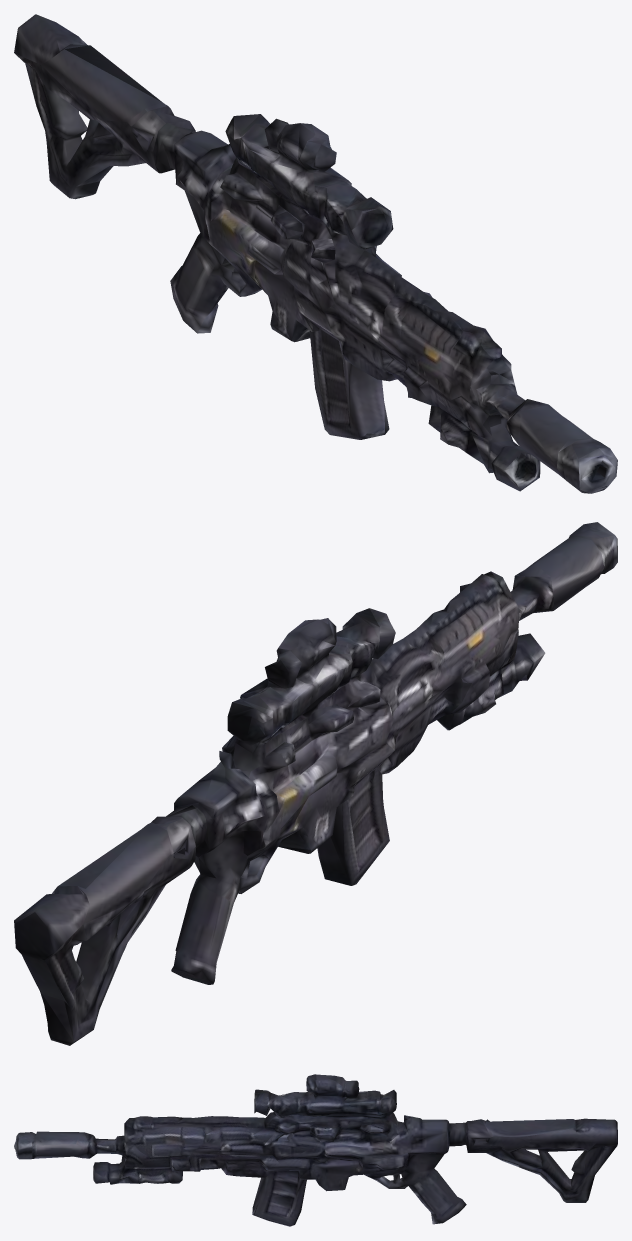
Rendered from future_soldier_rifle.glb.
The picture shows the model from 3 angles, top to bottom: view 1: azimuth 30°, elevation 25°; view 2: azimuth 150°, elevation 25°; view 3: azimuth 270°, elevation 25°; orthographic projection. The views are drawn at different scales.
Parts seen in each view (by area): view 1: rifle; view 2: rifle; view 3: rifle.
Boxes of the visible parts, bbox=[...] form: rifle: bbox=[14, 14, 617, 493]; rifle: bbox=[14, 522, 617, 1045]; rifle: bbox=[14, 1074, 617, 1226].
Size of the model in its own units: 0.0423 by 0.1535 by 0.5649.
Materials: 1 (1 with a texture image).
